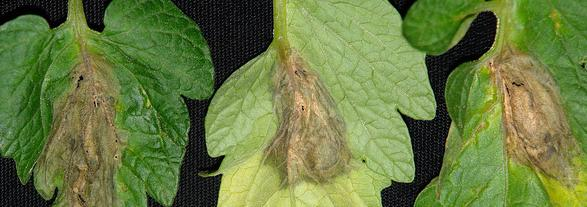Tomato mold leaf: (209, 0, 435, 207), (0, 0, 198, 207), (411, 0, 587, 207)
